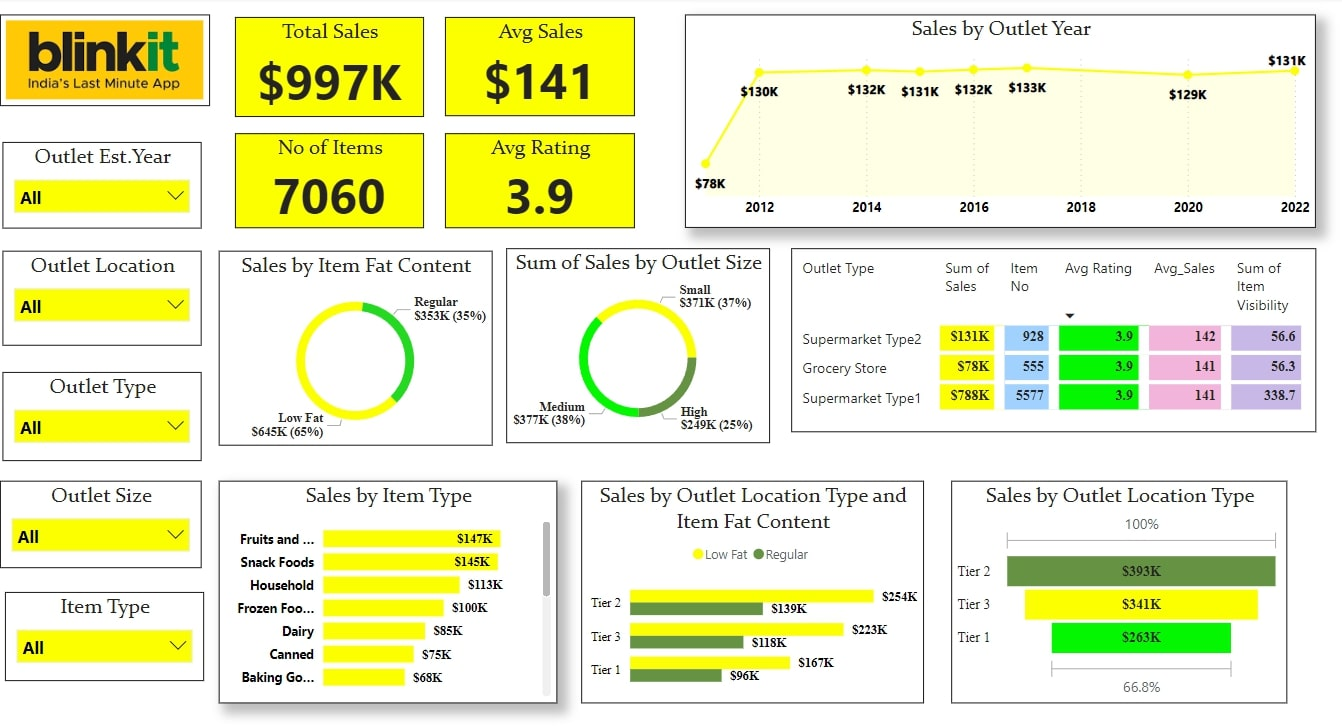

Layout of this report page (visuals, bound fields, positions):
{"tool":"powerbi","page":{"name":"Page 1","canvas":[1280,720],"ordinal":0},"visuals":[{"type":"card","title":"Total   Sales","fields":{"Values":["Sum(BlinkIT Grocery Data (2).Sales)"]},"box":[223.8,19,179.8,95.2],"z":0},{"type":"card","title":"Avg Rating","fields":{"Values":["Avg(BlinkIT Grocery Data (2).Rating)"]},"box":[423.8,129.8,181,90.5],"z":1000},{"type":"slicer","title":"Outlet Type","fields":{"Values":["BlinkIT Grocery Data (2).Outlet Type"]},"box":[2.4,357.1,189.3,84.5],"z":2000},{"type":"slicer","title":"Outlet Location","fields":{"Values":["BlinkIT Grocery Data (2).Outlet Location Type"]},"box":[2.4,241.7,189.3,90.5],"z":3000},{"type":"slicer","title":"Outlet Est.Year","fields":{"Values":["BlinkIT Grocery Data (2).Outlet Establishment Year"]},"box":[2.4,138.1,189.3,82.1],"z":4000},{"type":"image","box":[0,16.7,200,86.9],"z":5000},{"type":"card","title":"Avg  Sales","fields":{"Values":["Avg(BlinkIT Grocery Data (2).Sales)"]},"box":[423.8,19,181,94],"z":6000},{"type":"card","title":"No of Items","fields":{"Values":["CountNonNull(BlinkIT Grocery Data (2).Item Identifier)"]},"box":[223.8,129.8,179.8,90.5],"z":7000},{"type":"slicer","title":"Outlet Size","fields":{"Values":["BlinkIT Grocery Data (2).Outlet Size"]},"box":[0,460.7,191.7,83.3],"z":8000},{"type":"slicer","title":"Item Type","fields":{"Values":["BlinkIT Grocery Data (2).Item Type"]},"box":[4.8,566.7,189.3,84.5],"z":9000},{"type":"lineChart","title":"Sales by Outlet Year","fields":{"Category":["BlinkIT Grocery Data (2).Outlet Establishment Year"],"Y":["Sum(BlinkIT Grocery Data (2).Sales)"]},"box":[652.4,16.7,601.2,203.6],"z":10000},{"type":"donutChart","title":"Sales by Item Fat Content","fields":{"Y":["Sum(BlinkIT Grocery Data (2).Sales)"],"Category":["BlinkIT Grocery Data (2).Item Fat Content"]},"box":[208.3,241.7,260.7,185.7],"z":11000},{"type":"pieChart","fields":{"Y":["Sum(BlinkIT Grocery Data (2).Sales)"],"Category":["BlinkIT Grocery Data (2).Outlet Size"]},"box":[482.1,239.3,251.2,185.7],"z":12000},{"type":"barChart","title":"Sales by Item Type","fields":{"Category":["BlinkIT Grocery Data (2).Item Type"],"Y":["Sum(BlinkIT Grocery Data (2).Sales)"]},"box":[208.3,460.7,322.6,211.9],"z":13000},{"type":"funnel","title":"Sales by Outlet Location Type","fields":{"Y":["Sum(BlinkIT Grocery Data (2).Sales)"],"Category":["BlinkIT Grocery Data (2).Outlet Location Type"]},"box":[906,460.7,320.2,211.9],"z":14000},{"type":"clusteredBarChart","title":"Sales by Outlet Location Type and Item Fat Content","fields":{"Y":["Sum(BlinkIT Grocery Data (2).Sales)"],"Series":["BlinkIT Grocery Data (2).Item Fat Content"],"Category":["BlinkIT Grocery Data (2).Outlet Location Type"]},"box":[553.6,460.7,326.2,211.9],"z":15000},{"type":"pivotTable","fields":{"Rows":["BlinkIT Grocery Data (2).Outlet Type"],"Values":["Sum(BlinkIT Grocery Data (2).Sales)","BlinkIT Grocery Data (2).No_of_items","BlinkIT Grocery Data (2).Avg_rating","BlinkIT Grocery Data (2).Avg_Sales","Sum(BlinkIT Grocery Data (2).Item Visibility)"]},"box":[753.6,239.3,500,175],"z":16000}]}

Visuals, with their boxes in screenshot pixels (x1, y1, x2, y2):
"Total   Sales" card: [231, 20, 417, 118]
"Avg Rating" card: [437, 134, 624, 227]
"Outlet Type" slicer: [2, 369, 198, 456]
"Outlet Location" slicer: [2, 249, 198, 343]
"Outlet Est.Year" slicer: [2, 143, 198, 227]
image: [0, 17, 206, 107]
"Avg  Sales" card: [437, 20, 624, 117]
"No of Items" card: [231, 134, 417, 227]
"Outlet Size" slicer: [0, 476, 198, 562]
"Item Type" slicer: [5, 585, 200, 672]
"Sales by Outlet Year" lineChart: [673, 17, 1294, 227]
"Sales by Item Fat Content" donutChart: [215, 249, 484, 441]
pieChart - Sum(BlinkIT Grocery Data (2).Sales) x BlinkIT Grocery Data (2).Outlet Size: [498, 247, 757, 439]
"Sales by Item Type" barChart: [215, 476, 548, 694]
"Sales by Outlet Location Type" funnel: [935, 476, 1266, 694]
"Sales by Outlet Location Type and Item Fat Content" clusteredBarChart: [571, 476, 908, 694]
pivotTable - BlinkIT Grocery Data (2).Outlet Type x Sum(BlinkIT Grocery Data (2).Sales): [778, 247, 1294, 428]
